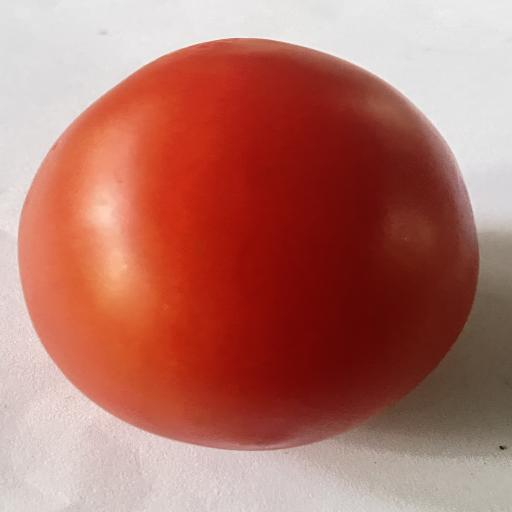ripe: (18, 38, 478, 450)
